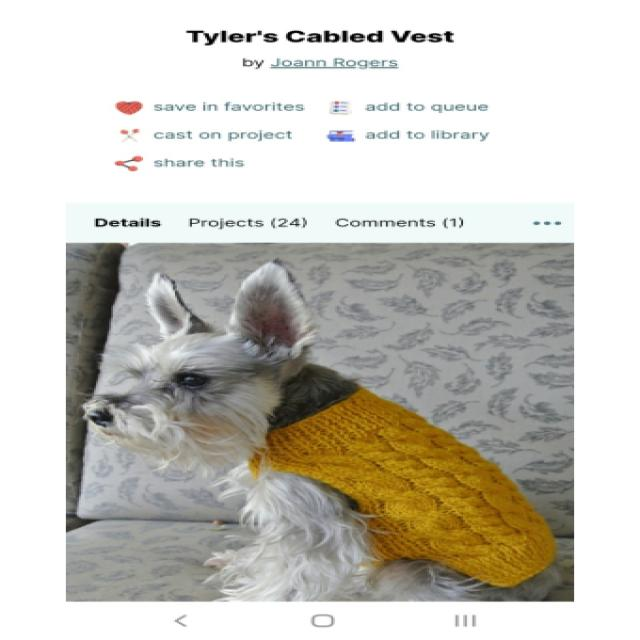cloth: (251, 389, 556, 588)
